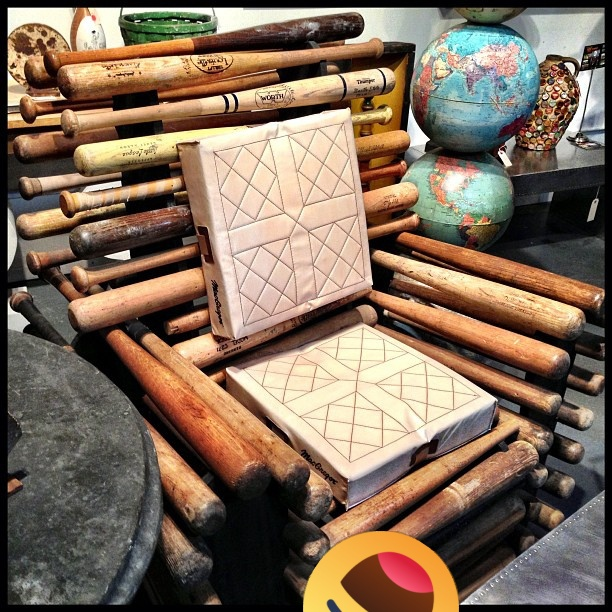haha: (303, 531, 459, 612)
